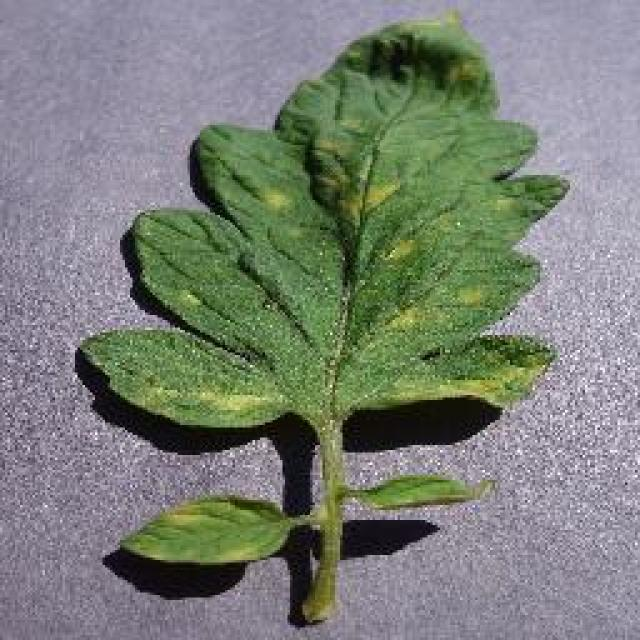Tomato mold leaf: (77, 9, 569, 428), (116, 493, 296, 565)
